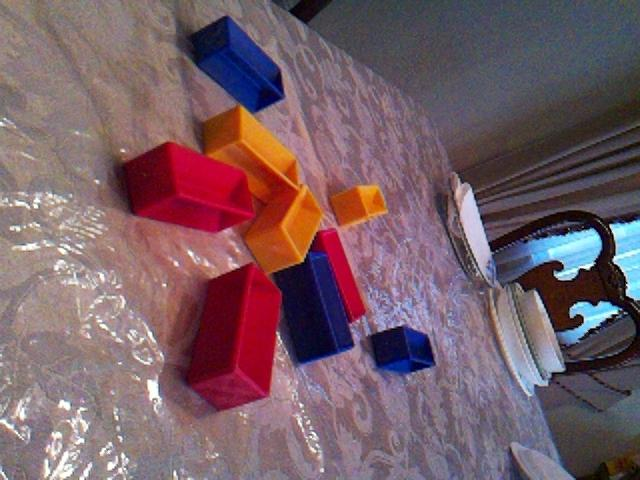blue: (187, 15, 287, 115), (272, 250, 356, 365), (368, 323, 437, 376)
red: (185, 262, 283, 412), (122, 140, 257, 234), (311, 227, 368, 324)
yellow: (202, 104, 302, 200), (244, 183, 324, 275), (329, 183, 389, 229)
